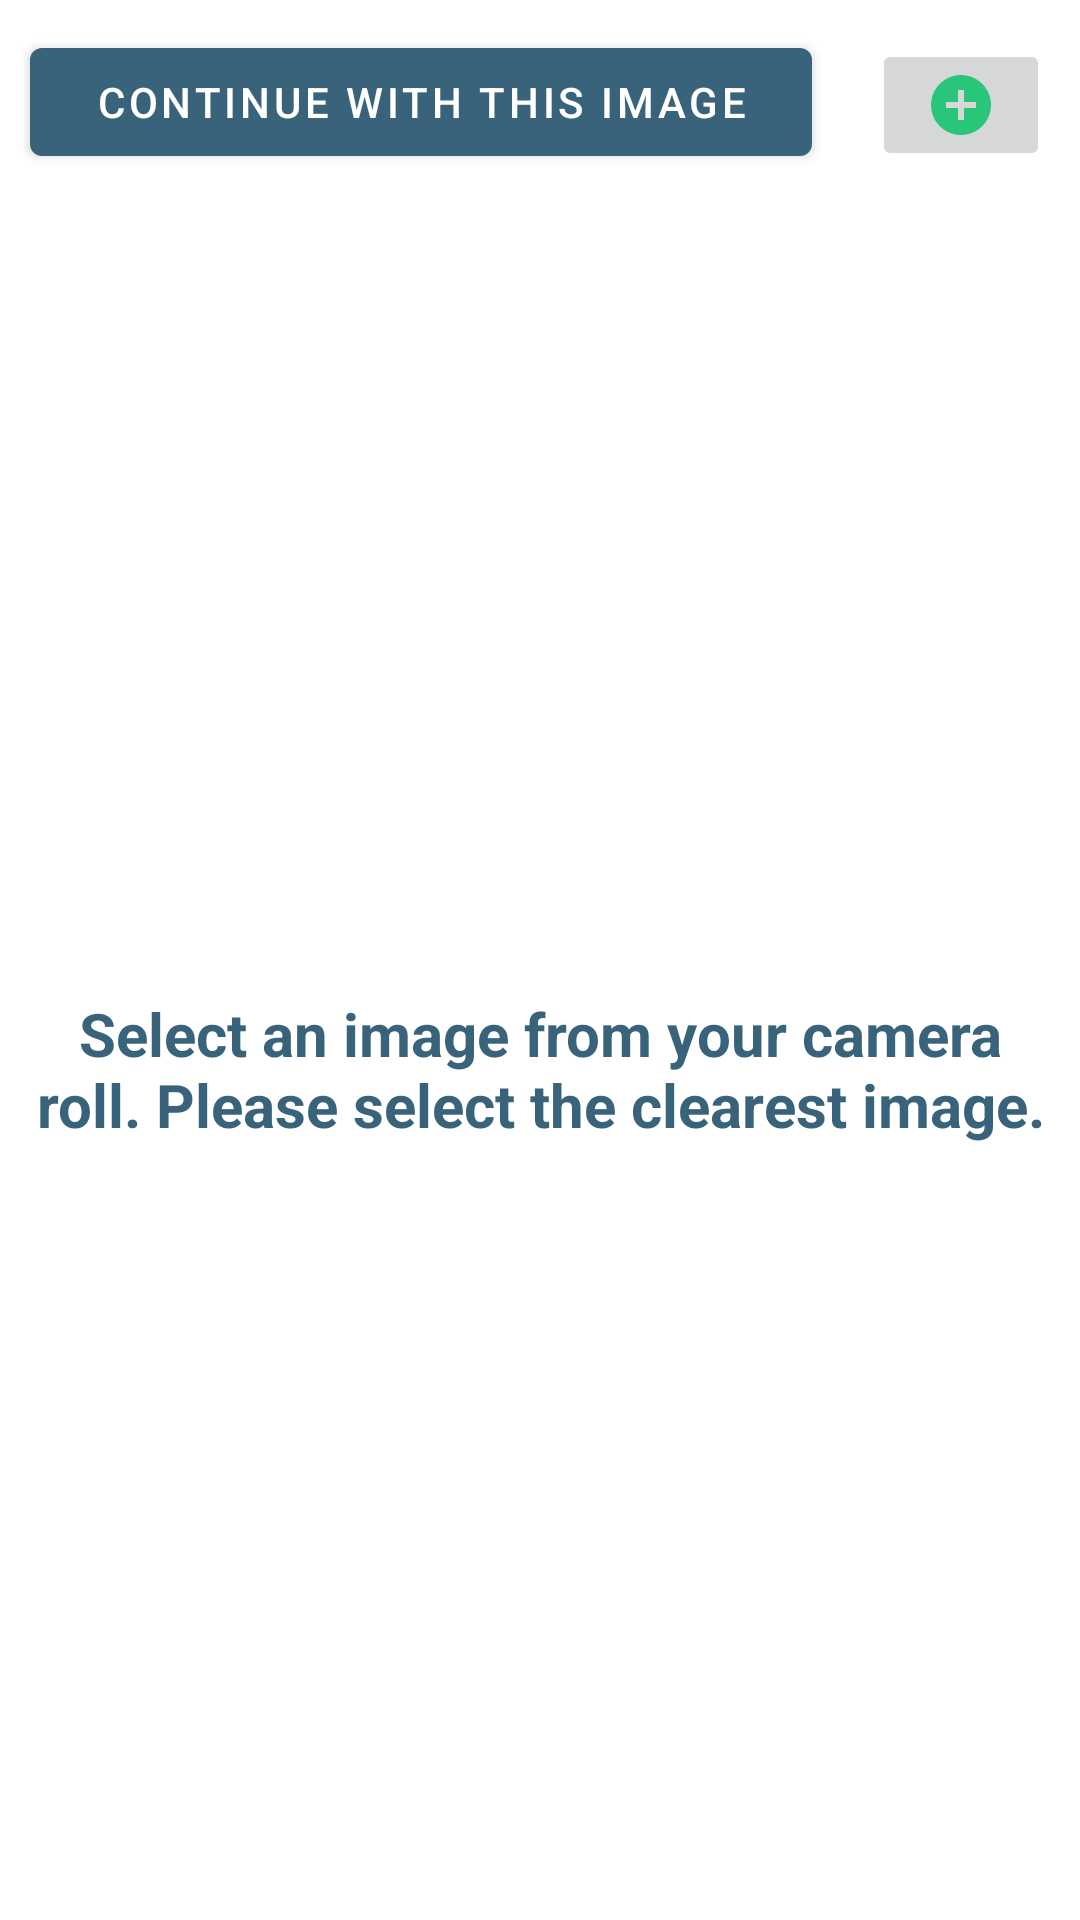

Point at icon controls on the screen. Image size 1080 x 1920, points as (x,y).
add circle: (961,105)
